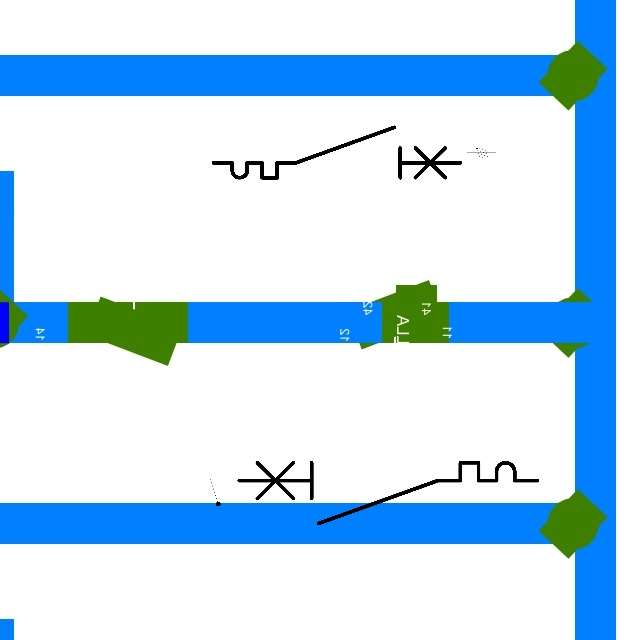interruptor_termomagnetico: (231, 455, 544, 531), (207, 121, 467, 184)
